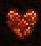lifeC: (1, 1, 41, 46)
